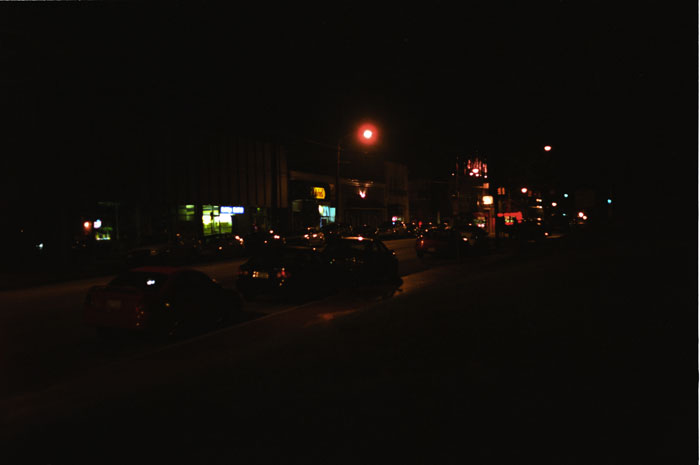car: (74, 263, 242, 355)
